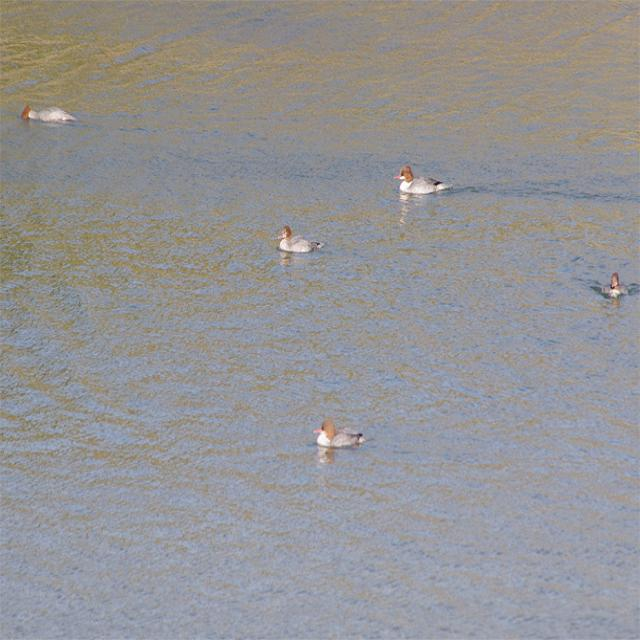bird: (311, 413, 368, 452), (394, 160, 452, 194), (19, 93, 74, 128), (272, 222, 323, 259), (591, 270, 633, 306)
